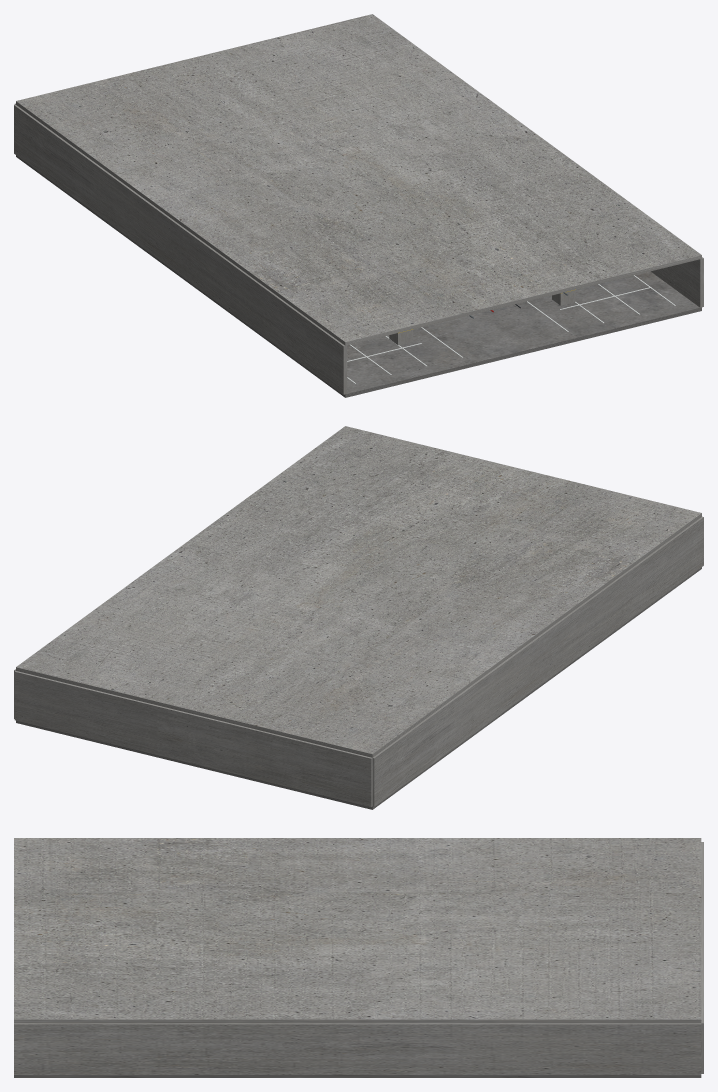
The model's file is 01_baseline_elevator_bank.glb.
3 renders of one model, top to bottom at view 1: azimuth 30°, elevation 25°; view 2: azimuth 150°, elevation 25°; view 3: azimuth 270°, elevation 25°, orthographic. The views are drawn at different scales.
Parts seen in each view (by area): view 1: Concrete ceiling, Concrete floor, Left retaining wall, Right retaining wall; view 2: Concrete ceiling, Rear elevator wall, Left retaining wall, Concrete floor; view 3: Concrete ceiling, Right retaining wall, Concrete floor, Rear elevator wall.
Boxes of the visible parts, <box> form: Concrete ceiling: <box>16,14,701,345</box>; Concrete floor: <box>16,155,701,397</box>; Left retaining wall: <box>14,104,347,394</box>; Right retaining wall: <box>651,257,703,307</box>; Concrete ceiling: <box>16,426,701,757</box>; Rear elevator wall: <box>14,671,372,807</box>; Left retaining wall: <box>372,516,703,806</box>; Concrete floor: <box>16,567,701,809</box>; Concrete ceiling: <box>14,838,701,1023</box>; Right retaining wall: <box>14,1023,701,1074</box>; Concrete floor: <box>14,1075,701,1077</box>; Rear elevator wall: <box>701,842,703,1073</box>.
Bounding box in the file's own units: 25.26 × 3.73 × 40.15.
Materials: 14 (4 with a texture image).
